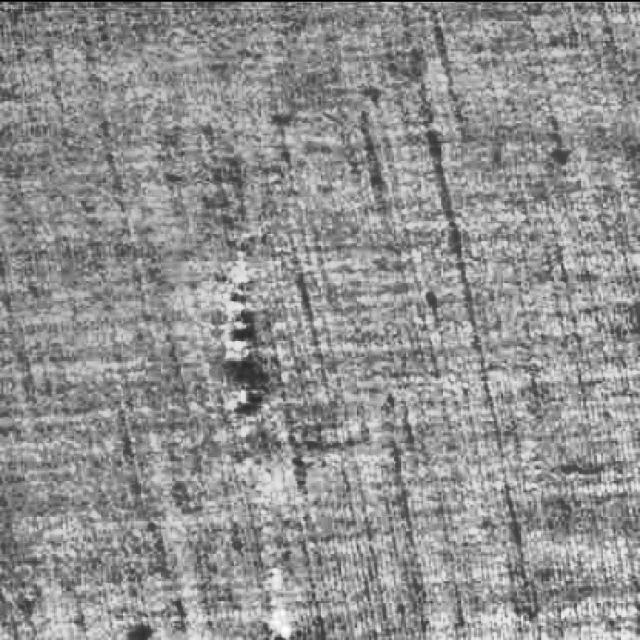thread_error: (197, 232, 317, 640)
